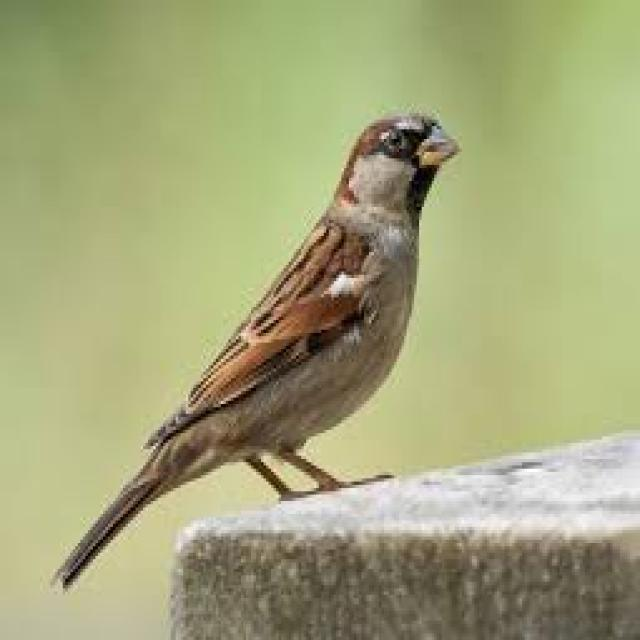Sparrow: (58, 110, 464, 578)
